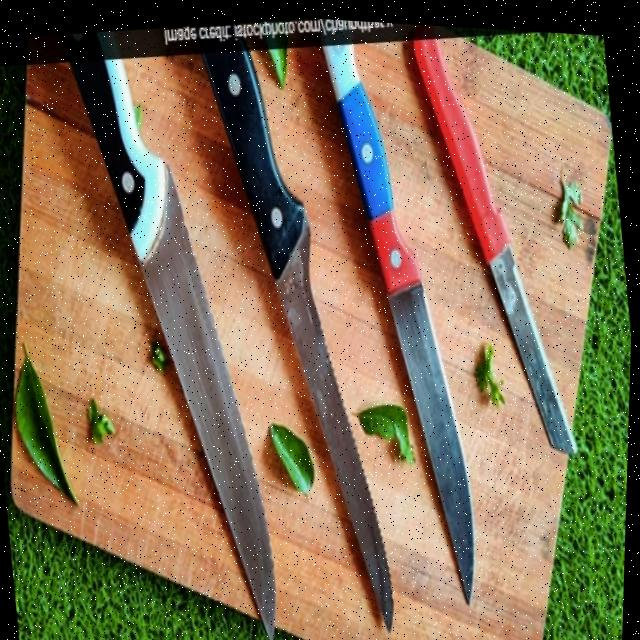knife: (54, 40, 297, 640), (185, 27, 420, 640), (307, 25, 495, 610), (400, 19, 591, 464)
